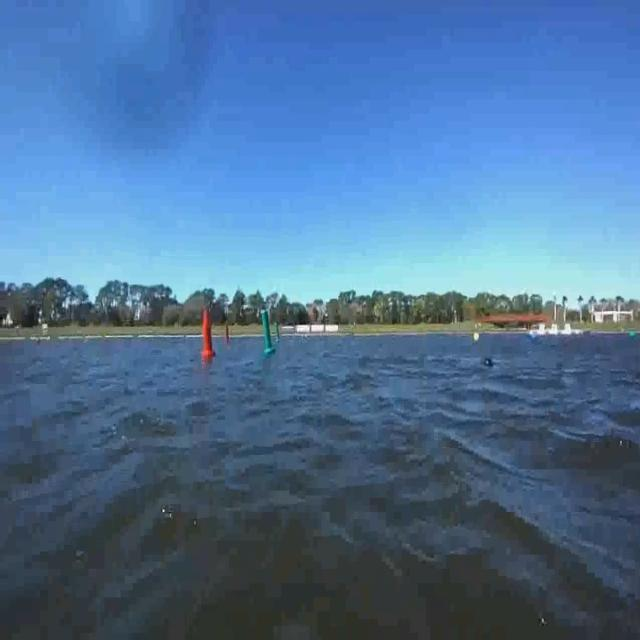black-buoy: (483, 356, 498, 370)
green-buoy: (629, 329, 637, 338)
green-column-buoy: (262, 312, 278, 358)
red-column-buoy: (200, 308, 216, 358), (224, 326, 230, 345)
yellow-buoy: (472, 332, 479, 345)
